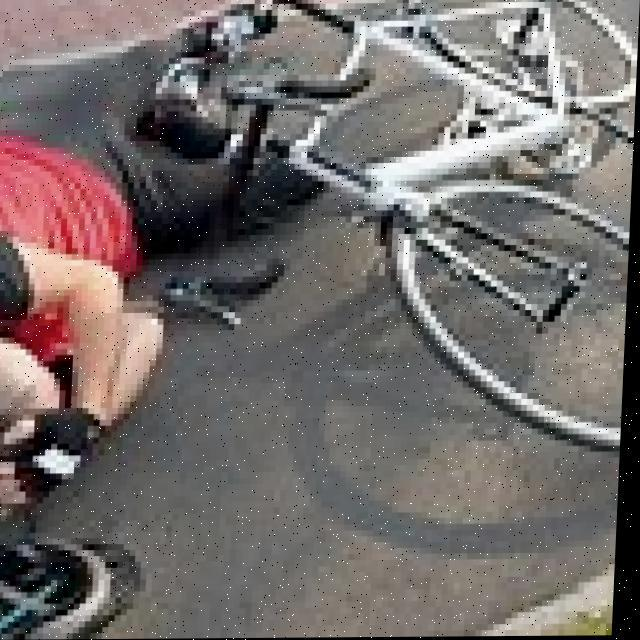single accident: (93, 20, 459, 364)
